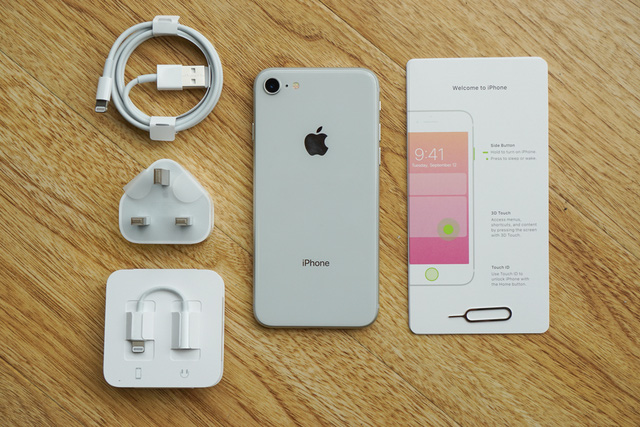iphone: (248, 56, 383, 340)
